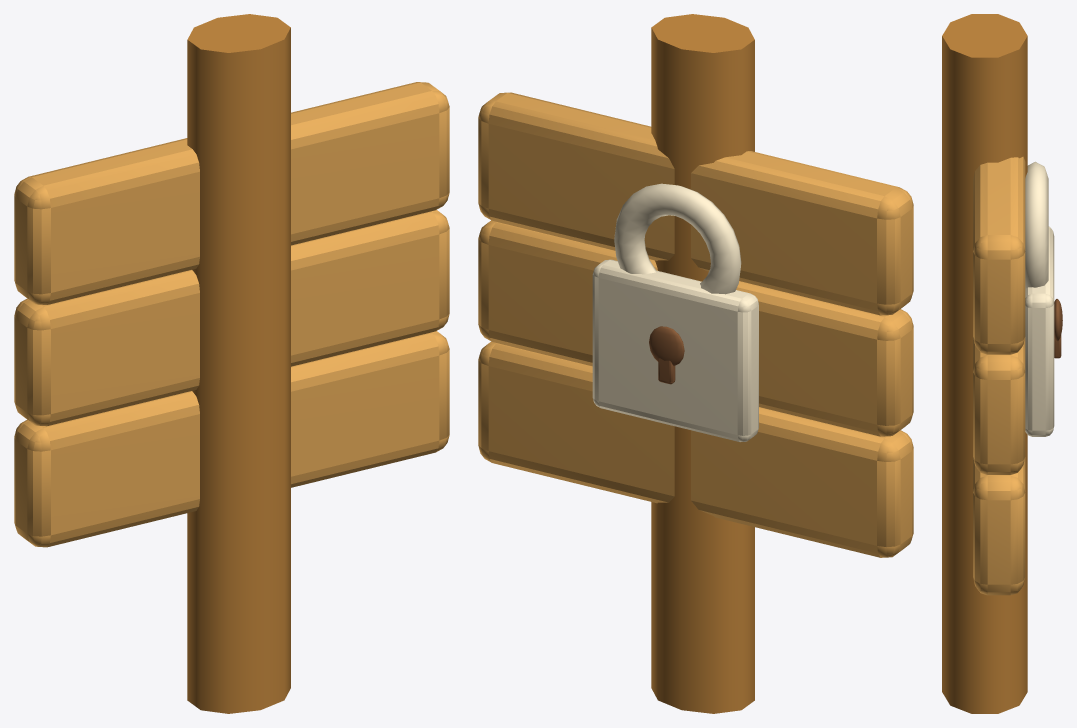
The model's file is wood_lock_sign.fbx.
3 renders of one model, left to right at view 1: azimuth 30°, elevation 25°; view 2: azimuth 150°, elevation 25°; view 3: azimuth 270°, elevation 25°, orthographic.
Parts seen in each view (by area): view 1: wood_lock_sign; view 2: wood_lock_sign; view 3: wood_lock_sign.
Part boxes in pixels (<box>): wood_lock_sign: <box>14,14,449,713</box>; wood_lock_sign: <box>478,14,913,713</box>; wood_lock_sign: <box>942,14,1062,713</box>.
Size of the model in its own units: 0.4 by 0.6 by 0.1.
1 material, 1 textured.
